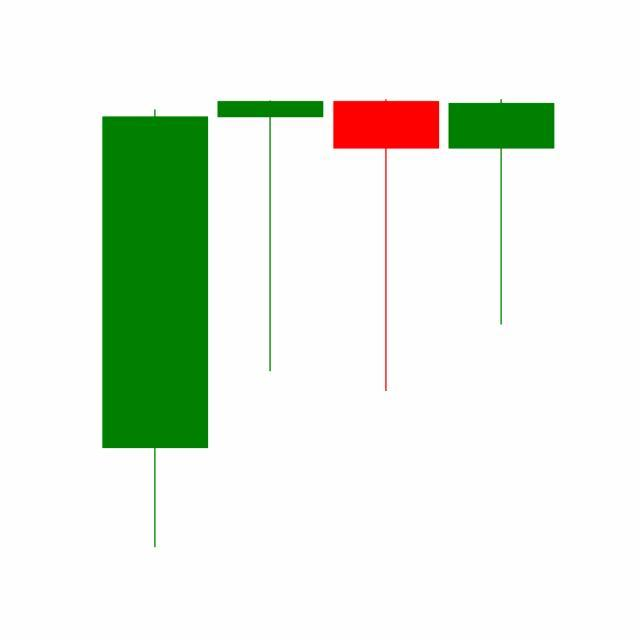Hanging Man: (329, 96, 445, 396)
